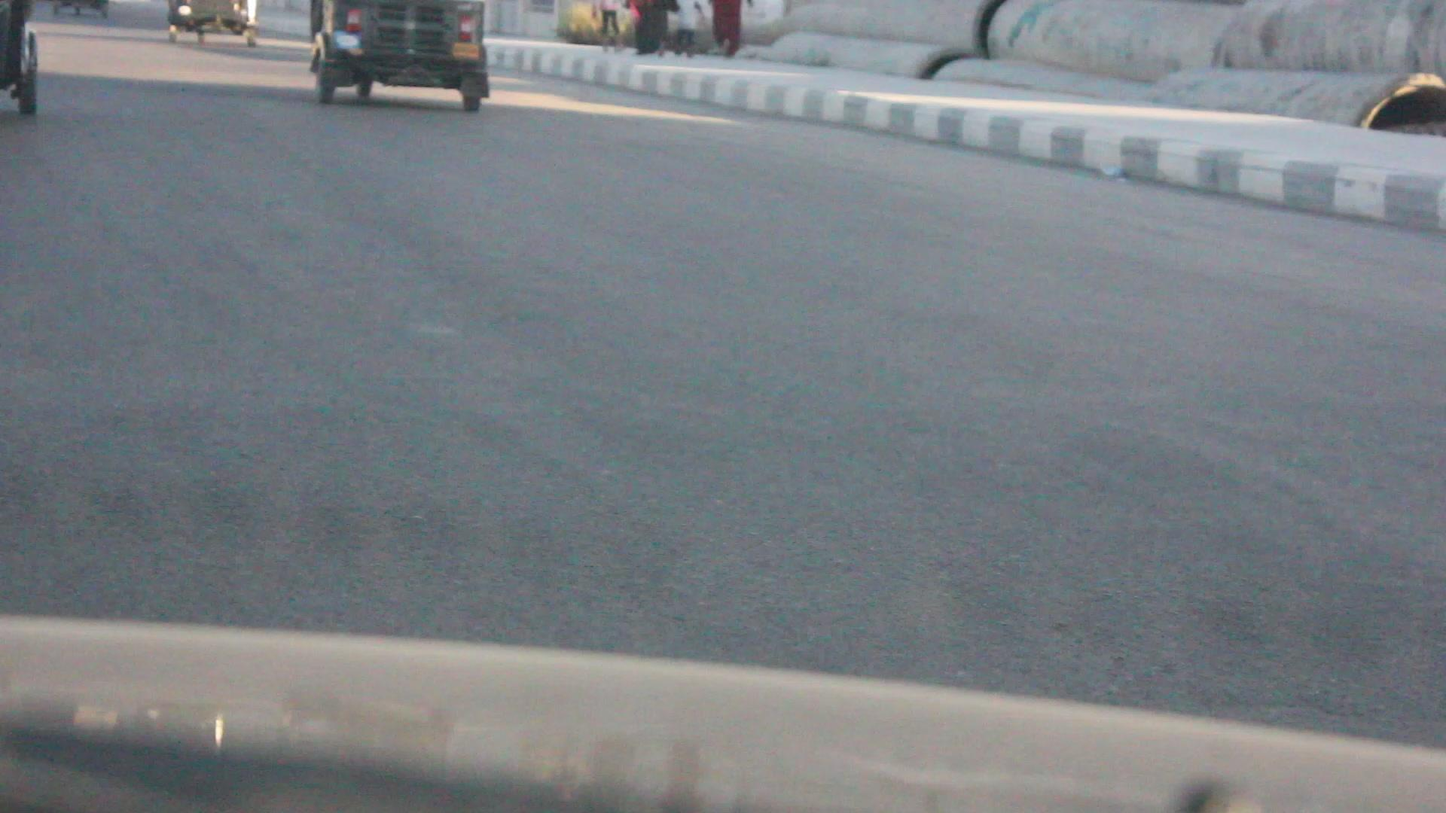Bump: (4, 425, 1446, 691)
